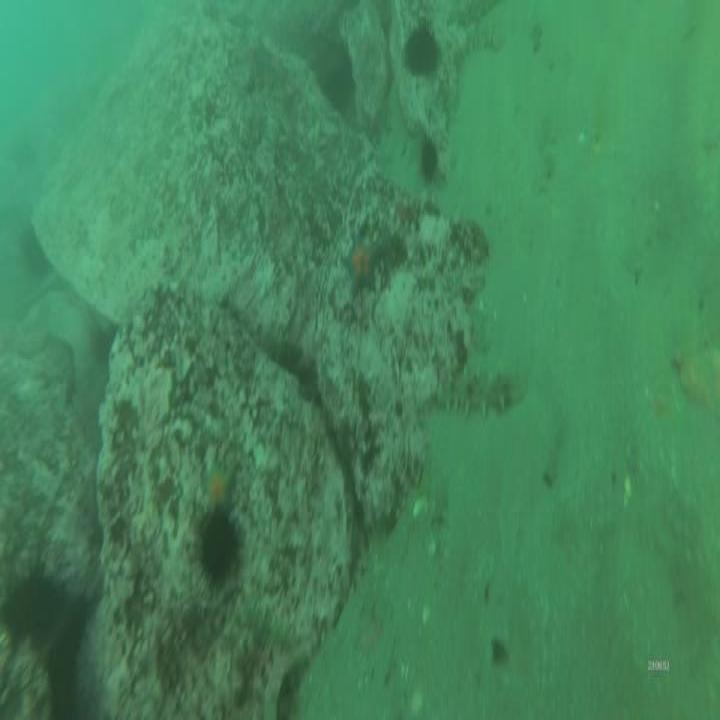echinus: (0, 551, 75, 656), (194, 508, 249, 590), (404, 25, 442, 80), (422, 130, 438, 185)
holothurian: (433, 357, 526, 416)
starfish: (341, 233, 383, 299), (201, 457, 239, 514)
